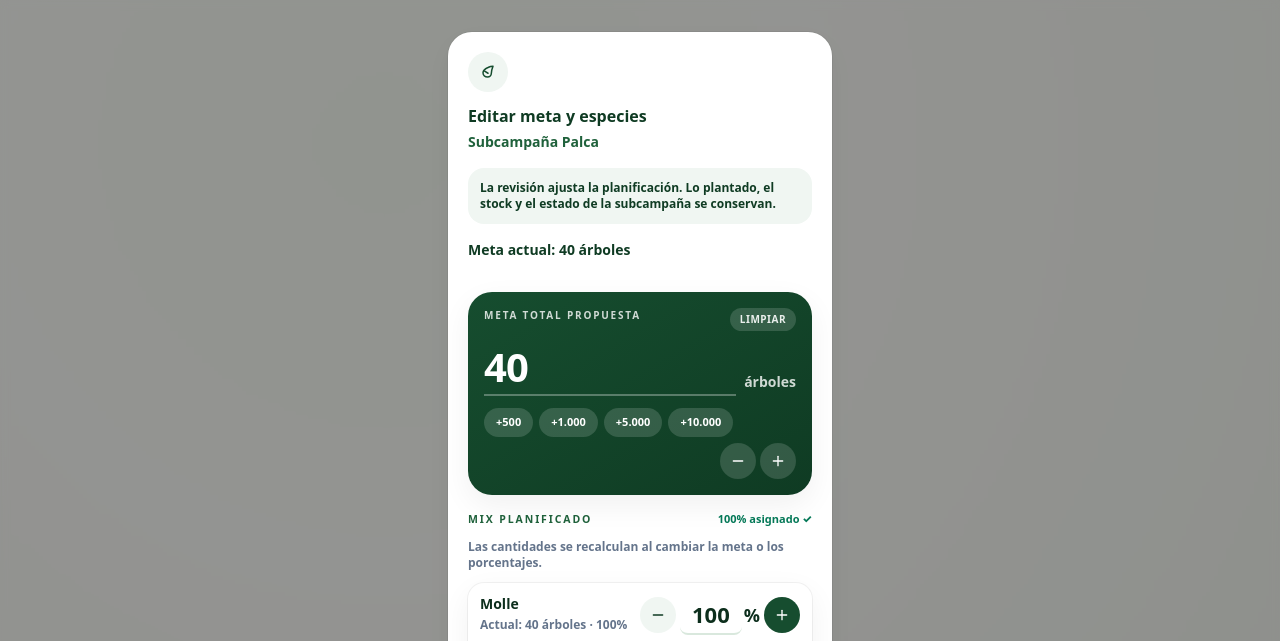
Editor de revisión de metas y especies › rechaza la meta inválida 0 sin perder lo escrito
The image size is (1280, 641).
Replace the text in the field labelled "Meta total propuesta" with "0" at (610, 368), box [484,339,736,396]
(page scrolled)
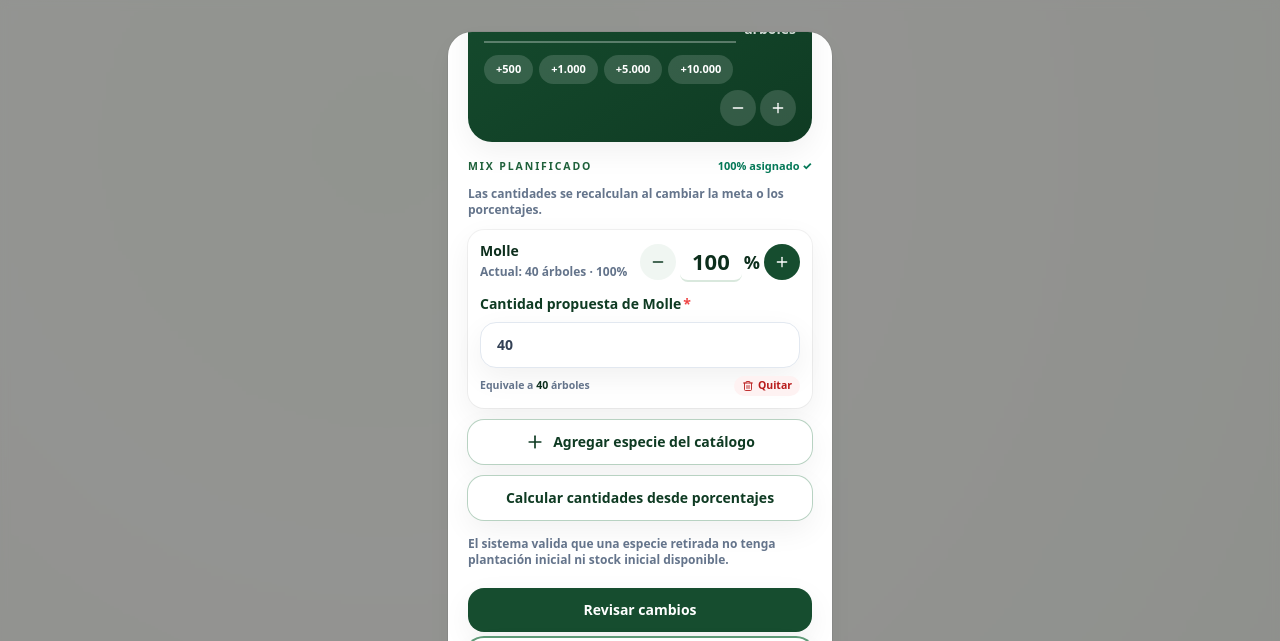
Click the button "Revisar cambios".
click(640, 610)  # box [468,588,812,632]
(page scrolled)
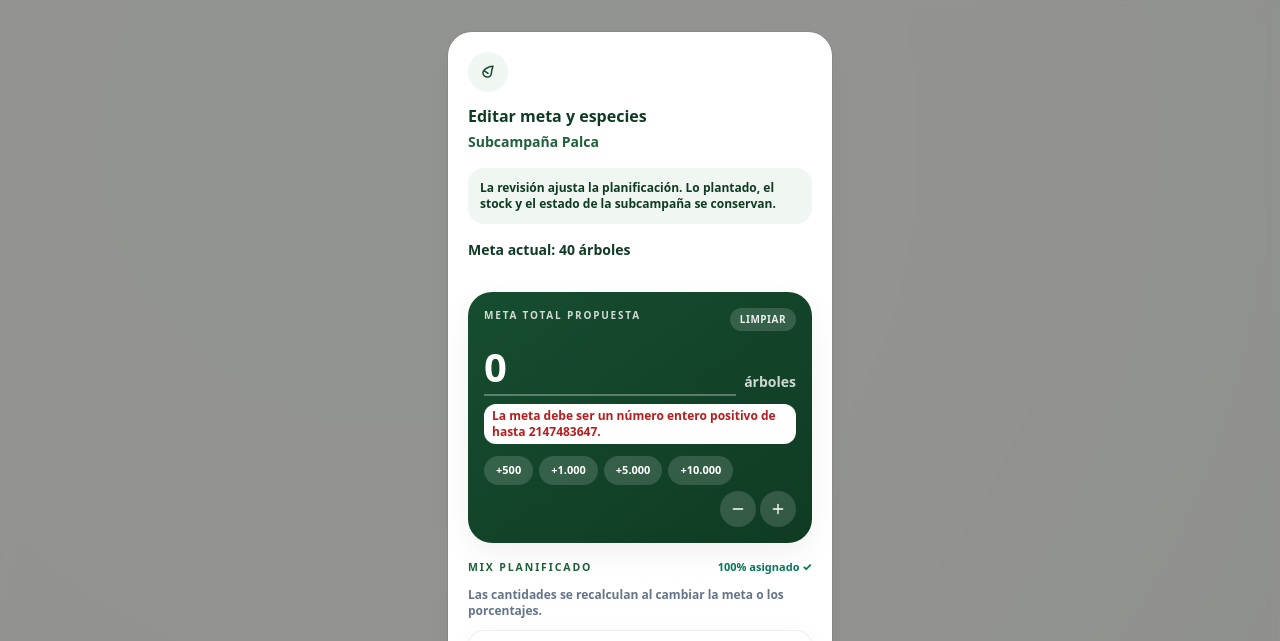
Expected: the text "La meta debe ser un número entero positivo de hasta 2147483647." is shown, [484,404,796,444]
